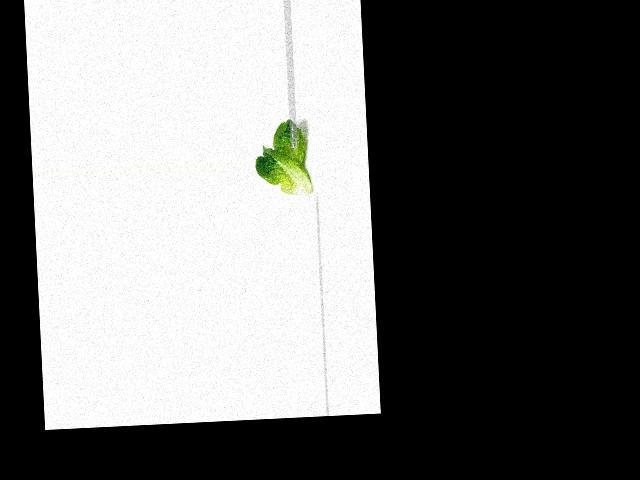lettuce: (252, 116, 310, 200)
